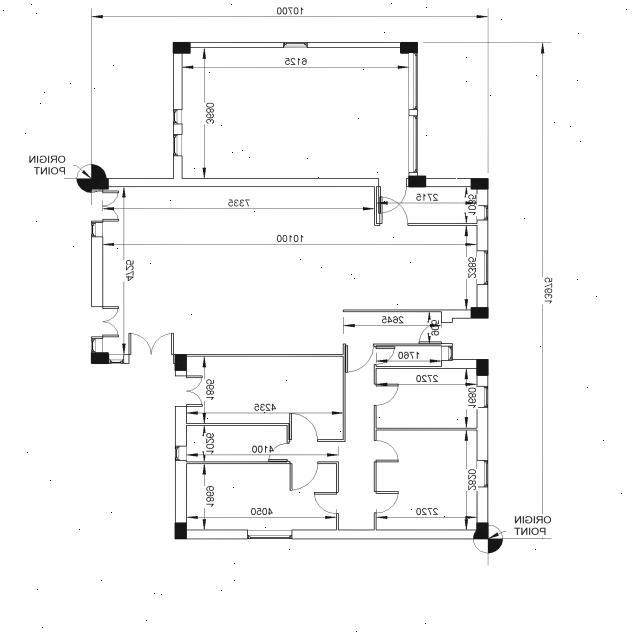Column: (408, 175, 426, 188), (174, 522, 187, 540), (174, 354, 187, 371), (400, 42, 418, 54), (476, 522, 488, 540), (91, 352, 109, 364), (172, 42, 190, 54), (91, 178, 109, 190), (471, 178, 488, 190), (471, 307, 488, 319), (476, 359, 488, 376)
Door: (378, 178, 408, 214), (379, 196, 408, 226), (288, 413, 318, 442), (344, 345, 374, 373), (290, 462, 318, 491), (314, 492, 339, 514), (374, 384, 398, 406), (374, 440, 398, 462), (374, 491, 398, 513), (268, 442, 290, 462), (419, 326, 442, 344), (374, 346, 396, 364)
Double-Door: (128, 333, 174, 364), (91, 190, 119, 222), (91, 307, 119, 337), (175, 376, 202, 406)
Window: (408, 115, 418, 173), (408, 54, 418, 110), (247, 530, 292, 540), (476, 250, 488, 284), (476, 460, 488, 488), (476, 386, 488, 408), (173, 134, 183, 156), (91, 222, 103, 237), (91, 337, 103, 352), (175, 446, 187, 461), (476, 206, 488, 220), (284, 42, 308, 48), (172, 110, 182, 124), (448, 346, 452, 361)
